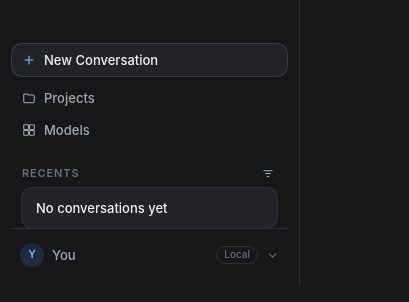
Test case: Projects/Pinned/Recents (Conversations segment) › advertises the Projects and Models navigation shortcuts in their focus hints
Focus the button "Projects" at {"x": 69, "y": 98}, box [12,82,287,114]
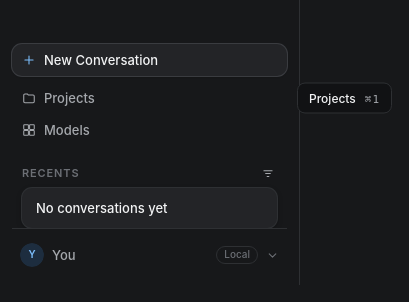
Result: the element with class "hint-surface" reads "Projects⌘1" at [297,82,392,114]
Leave the button "Projects", box [12,82,287,114]
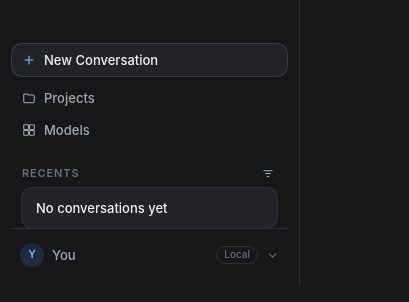
Focus the button "Models" at {"x": 67, "y": 130}, box [12,114,287,146]
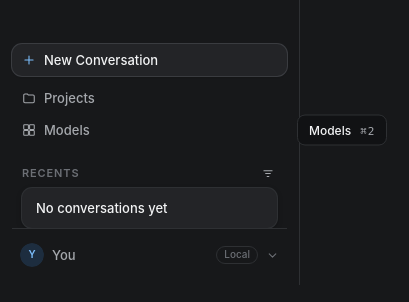
Result: the element with class "hint-surface" reads "Models⌘2" at [297,114,387,146]
